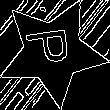P_E: (25, 30, 80, 74)
